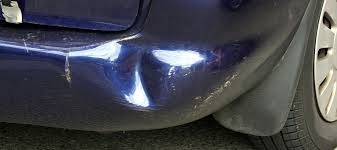Broken-glass: (99, 36, 166, 115)
Scratch: (183, 72, 242, 119), (62, 51, 75, 89), (19, 36, 36, 57)
